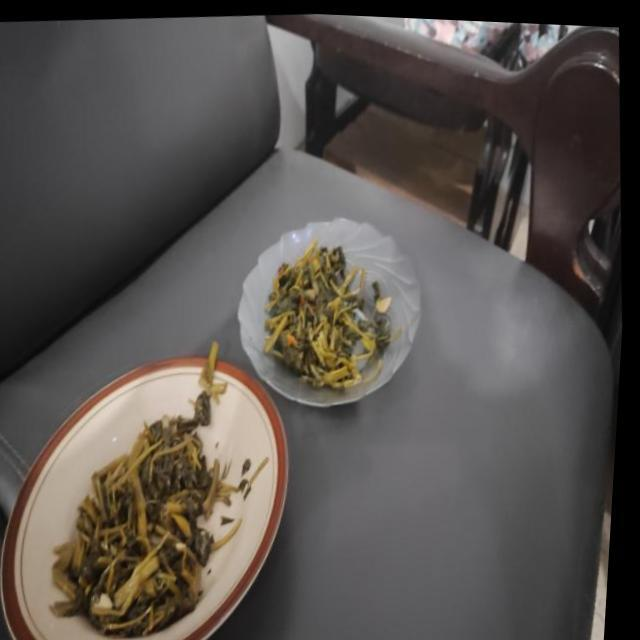tumis_kangkung: (49, 382, 240, 638), (264, 239, 390, 388)
